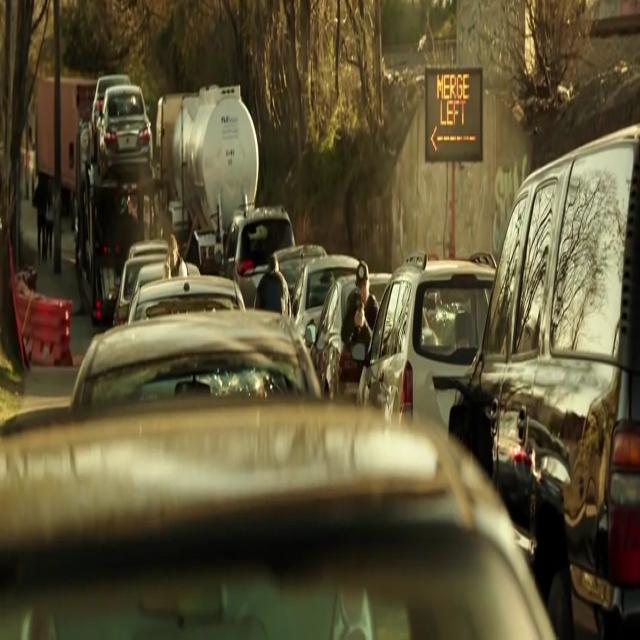Weapon: (346, 286, 366, 346)
